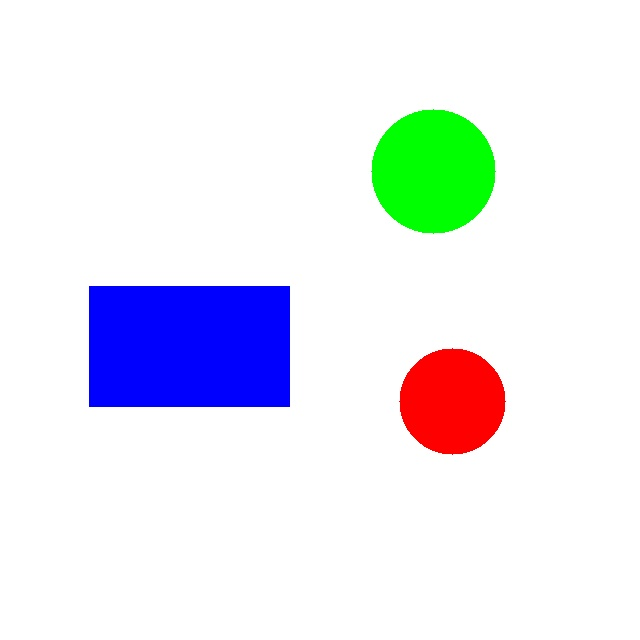cartao: (89, 286, 289, 406)
rosca_externa: (371, 109, 495, 233)
rosca_interna: (399, 348, 505, 454)
